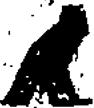Owl: (2, 2, 90, 106)
